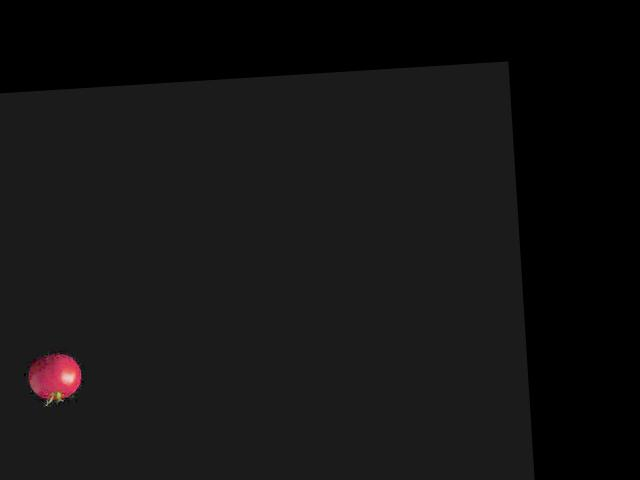tomato: (27, 353, 81, 400)
